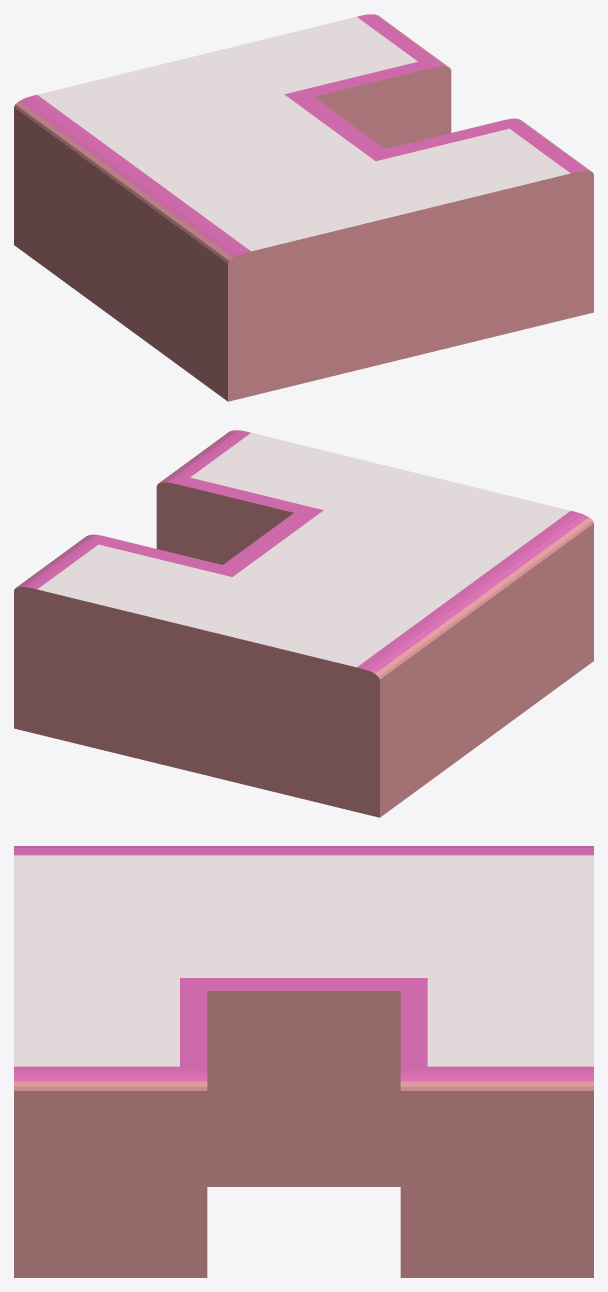
The model's file is my_ground_cutted.fbx.
3 renders of one model, top to bottom at view 1: azimuth 30°, elevation 25°; view 2: azimuth 150°, elevation 25°; view 3: azimuth 270°, elevation 25°, orthographic. The views are drawn at different scales.
Parts seen in each view (by area): view 1: Cube.001; view 2: Cube.001; view 3: Cube.001.
Part boxes in pixels (x1=…): Cube.001: x1=14, y1=14, x2=593, y2=401; Cube.001: x1=14, y1=430, x2=593, y2=817; Cube.001: x1=14, y1=846, x2=593, y2=1277.
Bounding box in the file's own units: 1763 × 666 × 1786.
